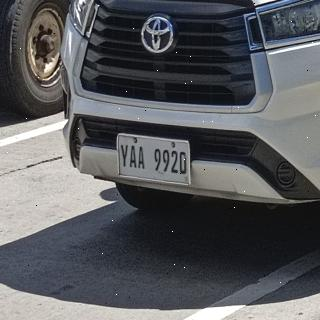license: (118, 134, 192, 186)
